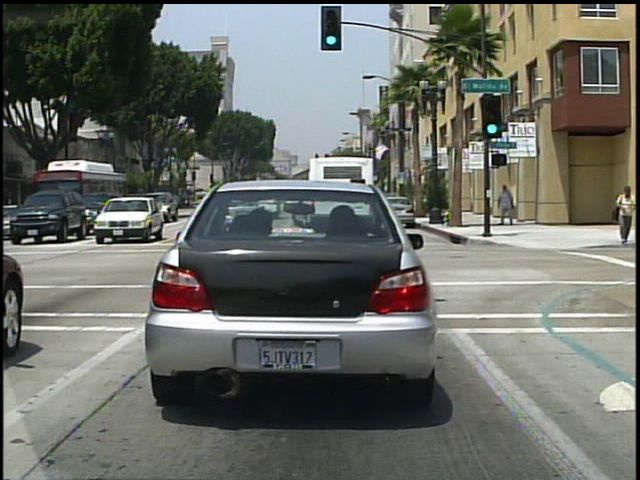person: (611, 186, 637, 247), (497, 185, 518, 227)
